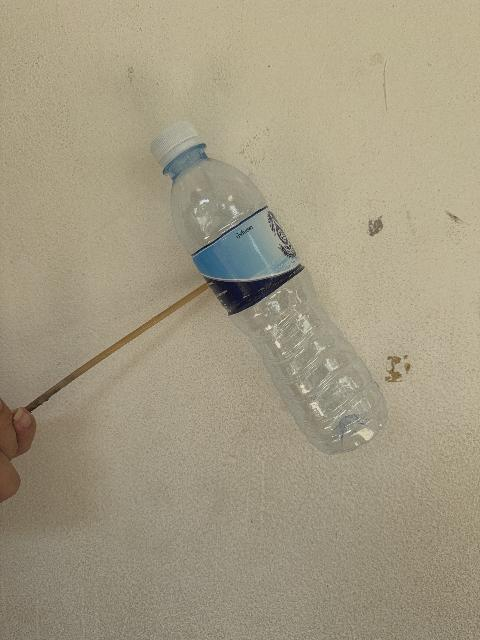bottle: (151, 122, 386, 453)
